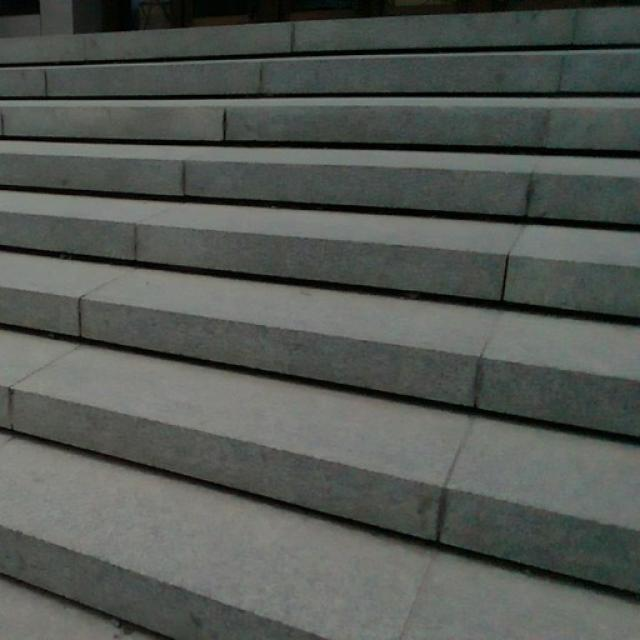stair: (4, 0, 640, 634)
